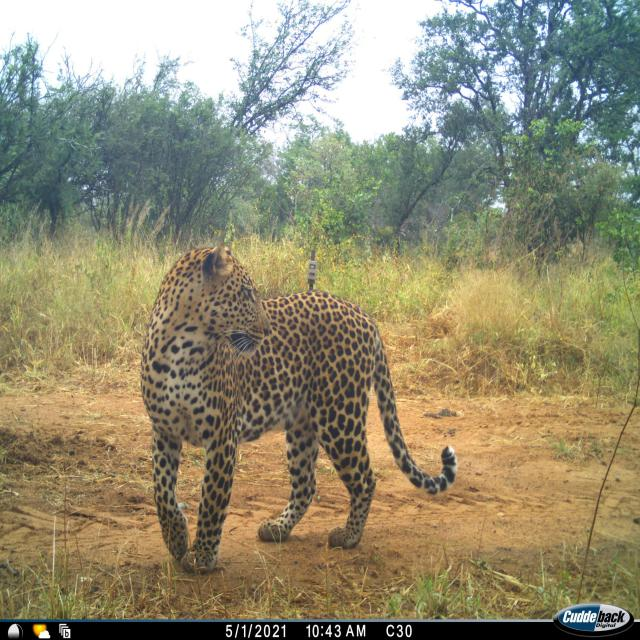Leopard: (114, 237, 470, 574)
